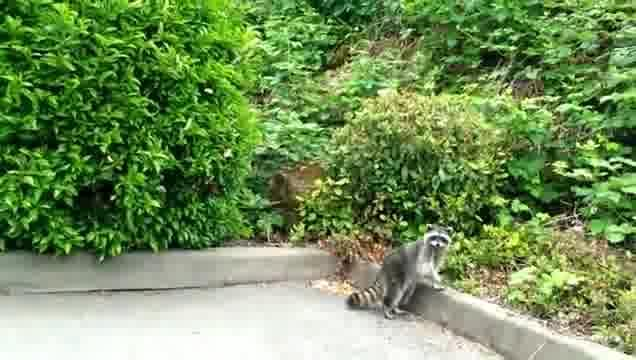raccoon: (344, 222, 455, 322)
